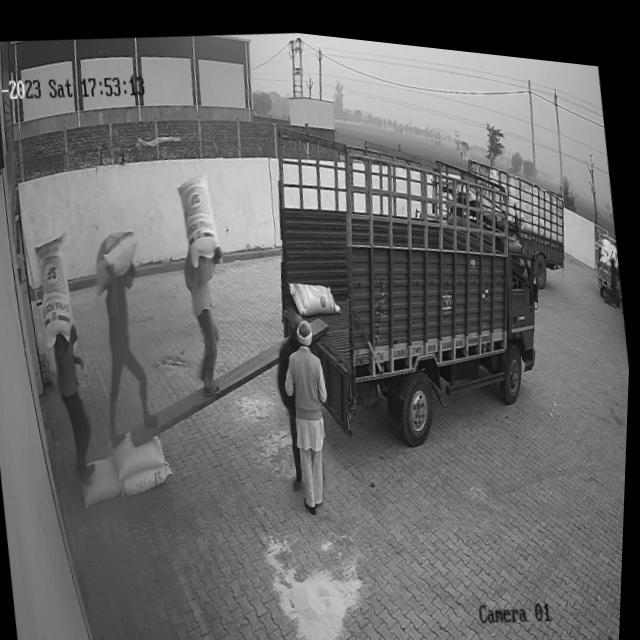sack: (32, 229, 82, 346), (175, 164, 225, 265), (91, 223, 146, 298), (114, 425, 171, 482), (80, 450, 127, 508), (289, 268, 344, 313), (123, 455, 179, 498)
